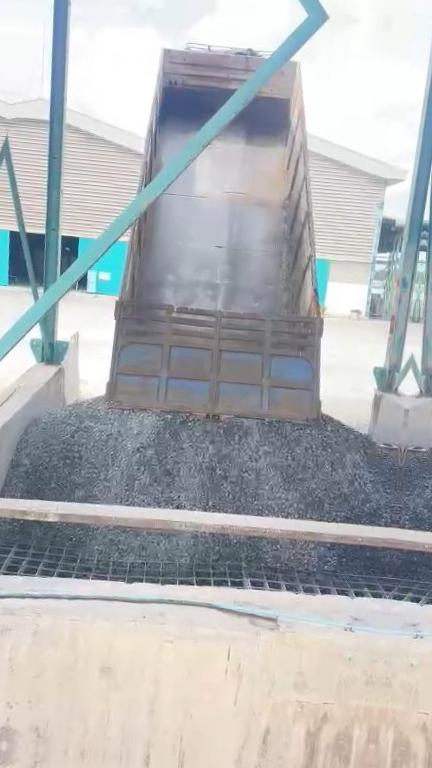gravel: (3, 399, 400, 526), (0, 522, 391, 572)
